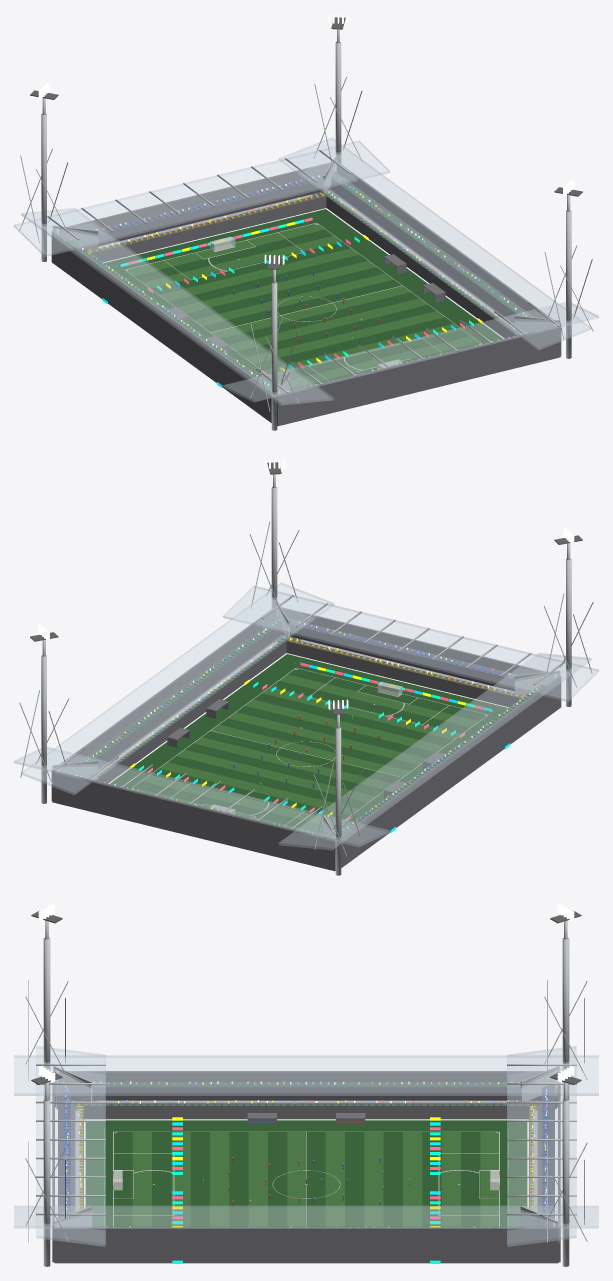
File: stadium.glb
3 renders of one model, top to bottom at view 1: azimuth 30°, elevation 25°; view 2: azimuth 150°, elevation 25°; view 3: azimuth 270°, elevation 25°, orthographic. The views are drawn at different scales.
Parts seen in each view (by area): view 1: Cube.756, Cube.754, Cube.755, Fascia_NS_S, Cube.753, Fascia_EW_W, Pitch_Runoff, Cube.525, Cube.617, Cube.294, Cube.395, Fascia_EW_E (+28 smaller); view 2: Cube.756, Cube.753, Cube.755, Fascia_NS_N, Cube.754, Fascia_EW_W, Pitch_Runoff, Cube.571, Cube.617, Cube.352, Cube.395, Fascia_EW_E (+28 smaller); view 3: Cube.755, Fascia_EW_E, Cube.756, Cube.753, Cube.754, Pitch_Runoff, Cube.685, Cube.460, Fascia_EW_W, Grass_Stripe_06, Grass_Stripe_08, Grass_Stripe_11 (+30 smaller).
Boxes of the visible parts, x1,y1,x2,y2 form: Cube.756: (279, 137, 591, 349); Cube.754: (14, 141, 389, 256); Cube.755: (21, 208, 333, 404); Fascia_NS_S: (277, 326, 560, 426); Cube.753: (223, 302, 598, 401); Fascia_EW_W: (51, 231, 271, 422); Pitch_Runoff: (105, 209, 502, 386); Cube.525: (98, 174, 330, 245); Cube.617: (330, 172, 532, 323); Cube.294: (86, 192, 326, 261); Cube.395: (321, 189, 517, 338); Fascia_EW_E: (337, 162, 561, 355); Cube.756: (21, 582, 333, 794); Cube.753: (223, 586, 598, 701); Cube.755: (279, 653, 591, 849); Fascia_NS_N: (52, 771, 335, 871); Cube.754: (14, 747, 389, 846); Fascia_EW_W: (341, 676, 561, 867); Pitch_Runoff: (110, 654, 507, 831); Cube.571: (282, 619, 516, 690); Cube.617: (80, 617, 282, 768); Cube.352: (286, 637, 526, 707); Cube.395: (95, 634, 291, 783); Fascia_EW_E: (51, 607, 275, 800); Cube.755: (14, 1055, 598, 1095); Fascia_EW_E: (54, 1227, 558, 1263); Cube.756: (14, 1206, 598, 1228); Cube.753: (36, 1046, 105, 1246); Cube.754: (507, 1046, 576, 1246); Pitch_Runoff: (85, 1120, 527, 1227); Cube.685: (58, 1082, 554, 1100); Cube.460: (71, 1100, 541, 1119); Fascia_EW_W: (55, 1071, 557, 1107); Grass_Stripe_06: (229, 1132, 248, 1227); Grass_Stripe_08: (268, 1132, 287, 1227); Grass_Stripe_11: (325, 1132, 344, 1227).
Size of the model in its own units: 122 by 58.86 by 159.
